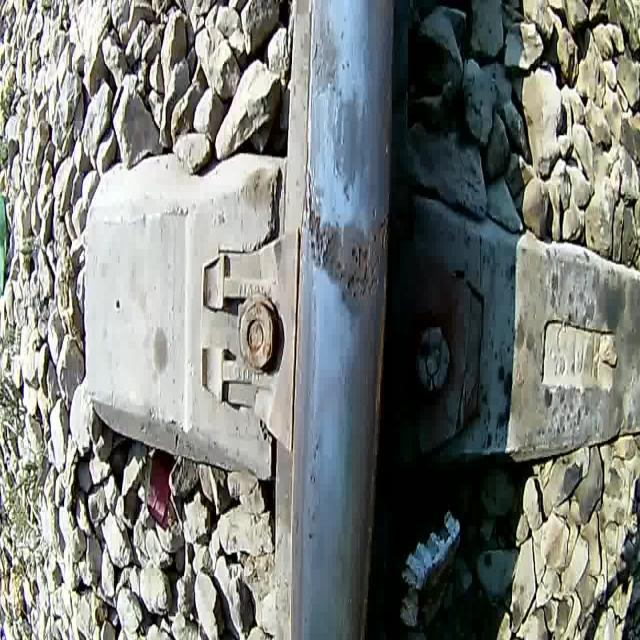Spallings: (302, 168, 338, 284), (341, 238, 384, 307)
Squats: (298, 159, 398, 339), (329, 88, 379, 203), (306, 10, 348, 106)
